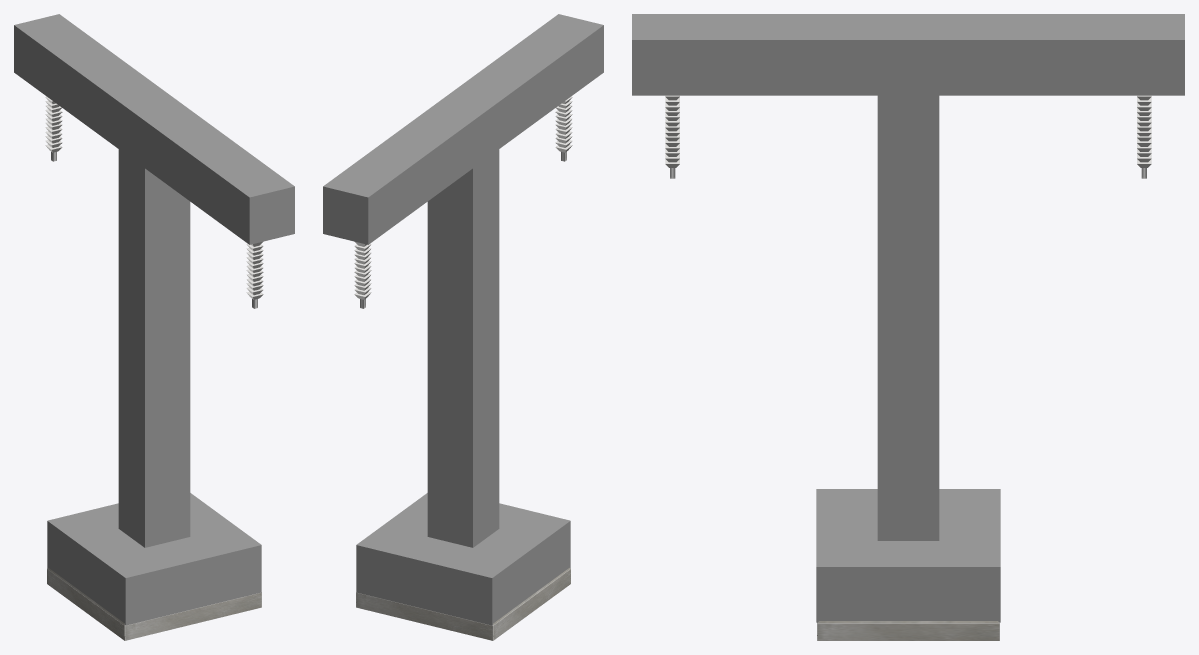
File: TransmissionTower.obj
3 renders of one model, left to right at view 1: azimuth 30°, elevation 25°; view 2: azimuth 150°, elevation 25°; view 3: azimuth 270°, elevation 25°, orthographic. The views are drawn at different scales.
Visible parts, largest first — view 1: Minecraft_Block.025_Cube.033, Minecraft_Block.009_Cube.010, foot, Minecraft_Block.014_Cube.015, Minecraft_Block.001_Cube.002, Minecraft_Block.013_Cube.014, Minecraft_Block.004_Cube.005, Minecraft_Block.015_Cube.016, Minecraft_Block.003_Cube.004, Minecraft_Block.002_Cube.003, Minecraft_Block.010_Cube.011, Minecraft_Block.008_Cube.009 (+13 smaller); view 2: Minecraft_Block.021_Cube.029, Minecraft_Block.012_Cube.013, foot, Minecraft_Block.014_Cube.015, Minecraft_Block.004_Cube.005, Minecraft_Block.001_Cube.002, Minecraft_Block.013_Cube.014, Minecraft_Block.003_Cube.004, Minecraft_Block.015_Cube.016, Minecraft_Block.002_Cube.003, Minecraft_Block.006_Cube.007, Minecraft_Block.005_Cube.006 (+13 smaller); view 3: Minecraft_Block.017_Cube.018, Minecraft_Block.025_Cube.033, Minecraft_Block.024_Cube.032, Minecraft_Block.023_Cube.031, Minecraft_Block.022_Cube.030, Minecraft_Block.021_Cube.029, Minecraft_Block.020_Cube.028, Minecraft_Block.019_Cube.027, Minecraft_Block.018_Cube.026, Minecraft_Block.007_Cube.008, Minecraft_Block.008_Cube.009, Minecraft_Block.006_Cube.007 (+14 smaller).
Part boxes in pixels (<box>): Minecraft_Block.025_Cube.033: <box>223,167,294,244</box>; Minecraft_Block.009_Cube.010: <box>99,548,170,625</box>; foot: <box>47,568,261,640</box>; Minecraft_Block.014_Cube.015: <box>118,244,190,310</box>; Minecraft_Block.001_Cube.002: <box>118,481,190,547</box>; Minecraft_Block.013_Cube.014: <box>118,292,190,357</box>; Minecraft_Block.004_Cube.005: <box>118,339,190,405</box>; Minecraft_Block.015_Cube.016: <box>118,197,190,262</box>; Minecraft_Block.003_Cube.004: <box>118,387,190,452</box>; Minecraft_Block.002_Cube.003: <box>118,434,190,500</box>; Minecraft_Block.010_Cube.011: <box>145,537,216,614</box>; Minecraft_Block.008_Cube.009: <box>191,526,261,603</box>; Minecraft_Block.021_Cube.029: <box>323,167,394,244</box>; Minecraft_Block.012_Cube.013: <box>447,548,518,625</box>; foot: <box>356,568,570,640</box>; Minecraft_Block.014_Cube.015: <box>427,244,499,310</box>; Minecraft_Block.004_Cube.005: <box>427,339,499,405</box>; Minecraft_Block.001_Cube.002: <box>427,481,499,547</box>; Minecraft_Block.013_Cube.014: <box>427,292,499,357</box>; Minecraft_Block.003_Cube.004: <box>427,387,499,452</box>; Minecraft_Block.015_Cube.016: <box>427,197,499,262</box>; Minecraft_Block.002_Cube.003: <box>427,434,499,500</box>; Minecraft_Block.006_Cube.007: <box>356,526,426,603</box>; Minecraft_Block.005_Cube.006: <box>401,537,472,614</box>; Minecraft_Block.017_Cube.018: <box>877,14,939,95</box>; Minecraft_Block.025_Cube.033: <box>632,14,693,95</box>; Minecraft_Block.024_Cube.032: <box>693,14,754,95</box>; Minecraft_Block.023_Cube.031: <box>755,14,816,95</box>; Minecraft_Block.022_Cube.030: <box>816,14,877,95</box>; Minecraft_Block.021_Cube.029: <box>1123,14,1184,95</box>; Minecraft_Block.020_Cube.028: <box>1062,14,1123,95</box>; Minecraft_Block.019_Cube.027: <box>1000,14,1061,95</box>; Minecraft_Block.018_Cube.026: <box>939,14,1000,95</box>; Minecraft_Block.007_Cube.008: <box>877,541,939,620</box>; Minecraft_Block.008_Cube.009: <box>816,541,877,622</box>; Minecraft_Block.006_Cube.007: <box>939,541,1000,622</box>.
Bounding box in the file's own units: 3.03 × 10.32 × 9.
6 materials, 4 textured.
